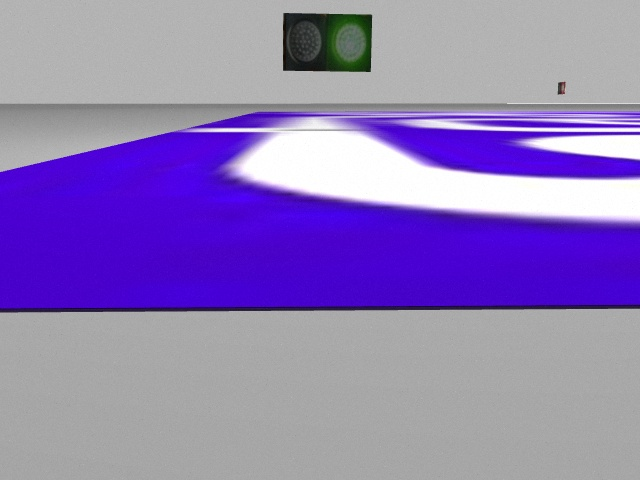green: (328, 14, 374, 71)
